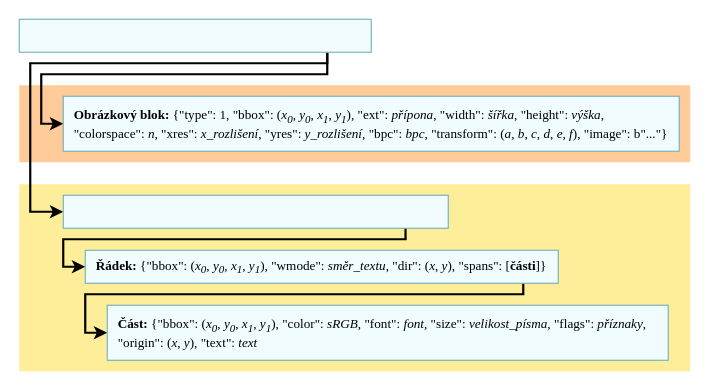
Some shapes in this 710 by 391 pixel diagram are drawn without their labels. Here are the shapes that lost their labels. From the top down, the box of each, then its label:
(18, 18, 371, 52): Stránka: {"width": šířka , "height": výška , "blocks": [ bloky ]}
(62, 194, 448, 228): Textový blok: {"type": 0, "bbox": ( x 0 , y 0 , x 1 , y 1 ), "lines": [ řádky ]}
